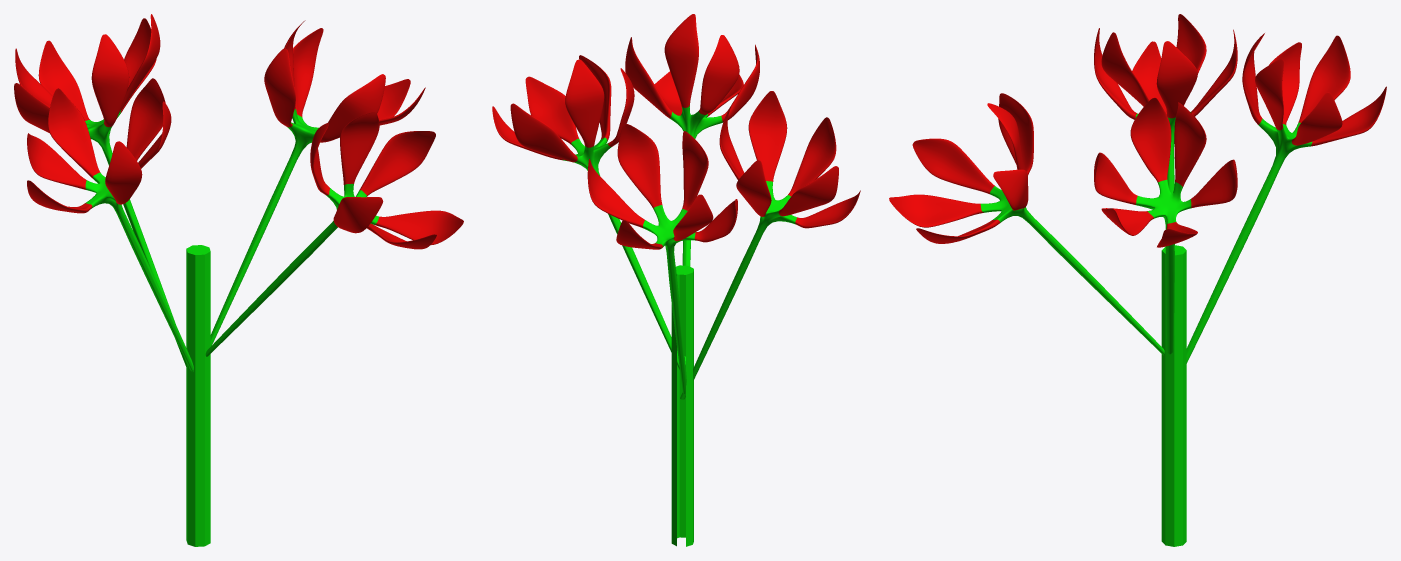
File: redtulip.fbx
3 views of the same model, side by side, from view 1: azimuth 30°, elevation 25°; view 2: azimuth 150°, elevation 25°; view 3: azimuth 270°, elevation 25° (orthographic). The views are drawn at different scales.
Visible parts, largest first — view 1: tulip, tulip4, tulip3, tulip2, stem; view 2: tulip, tulip3, tulip2, tulip4, stem; view 3: tulip3, tulip2, tulip4, tulip, stem.
Boxes of the visible parts, box(x1,y1,x2,y2) form: tulip: box(27, 78, 193, 372); tulip4: box(205, 112, 463, 356); tulip3: box(14, 14, 186, 367); tulip2: box(210, 20, 425, 346); stem: box(186, 245, 210, 546); tulip: box(680, 91, 860, 399); tulip3: box(587, 124, 737, 393); tulip2: box(492, 55, 679, 370); tulip4: box(625, 14, 759, 364); stem: box(671, 265, 693, 546); tulip3: box(1186, 33, 1386, 363); tulip2: box(1094, 97, 1237, 354); tulip4: box(889, 93, 1164, 355); tulip: box(1094, 14, 1237, 244); stem: box(1161, 245, 1186, 546).
Size of the model in its own units: 72.24 by 87.66 by 80.33.
